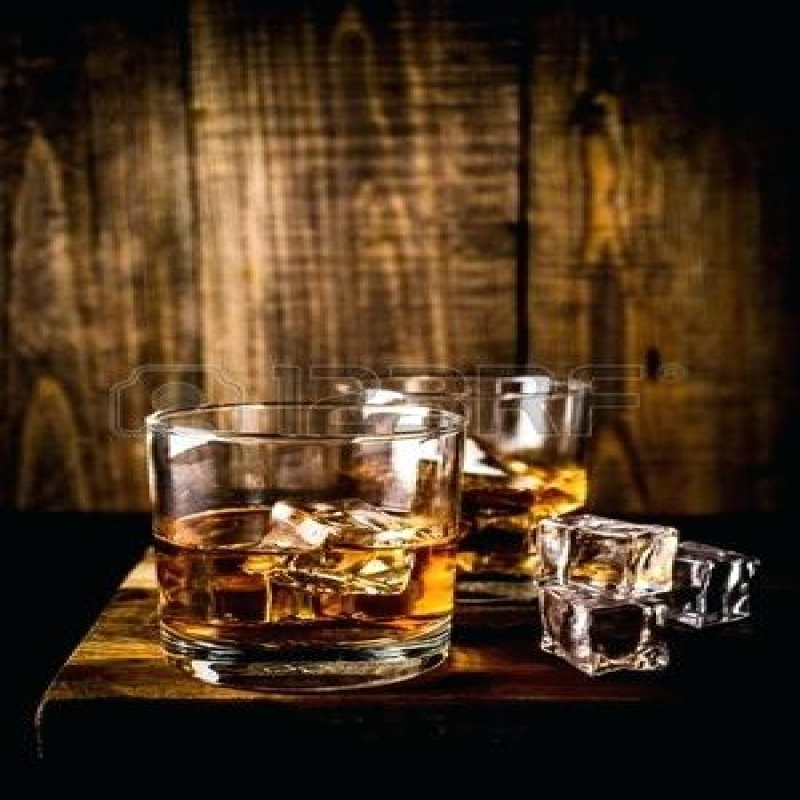whiskey: (145, 402, 469, 670)
